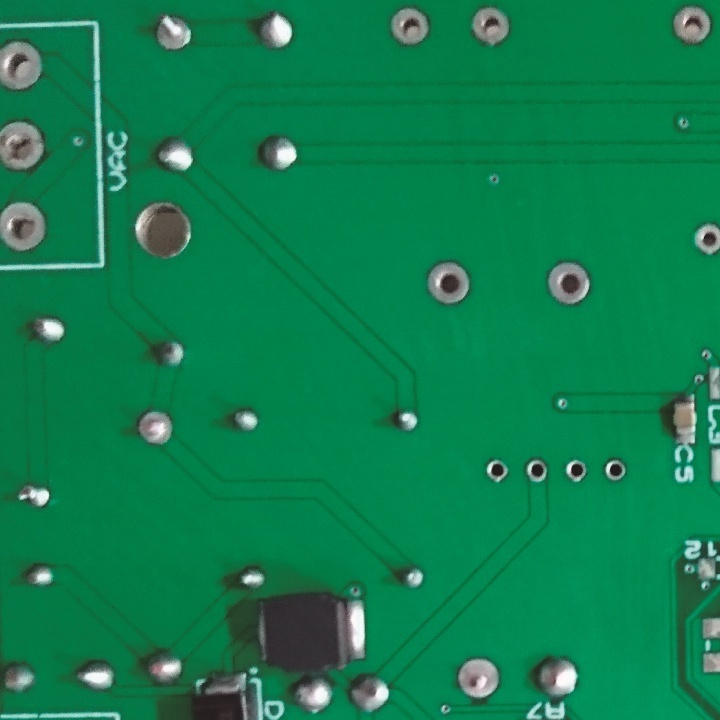F: (1, 199, 50, 258), (422, 256, 473, 309), (540, 258, 594, 308), (1, 118, 50, 172), (1, 38, 48, 94), (667, 2, 716, 49), (385, 4, 434, 51), (456, 655, 502, 704), (465, 6, 513, 49), (152, 11, 193, 54), (136, 409, 180, 447), (691, 218, 720, 258), (484, 456, 513, 485), (601, 455, 628, 485), (524, 458, 551, 485), (562, 458, 588, 485)
